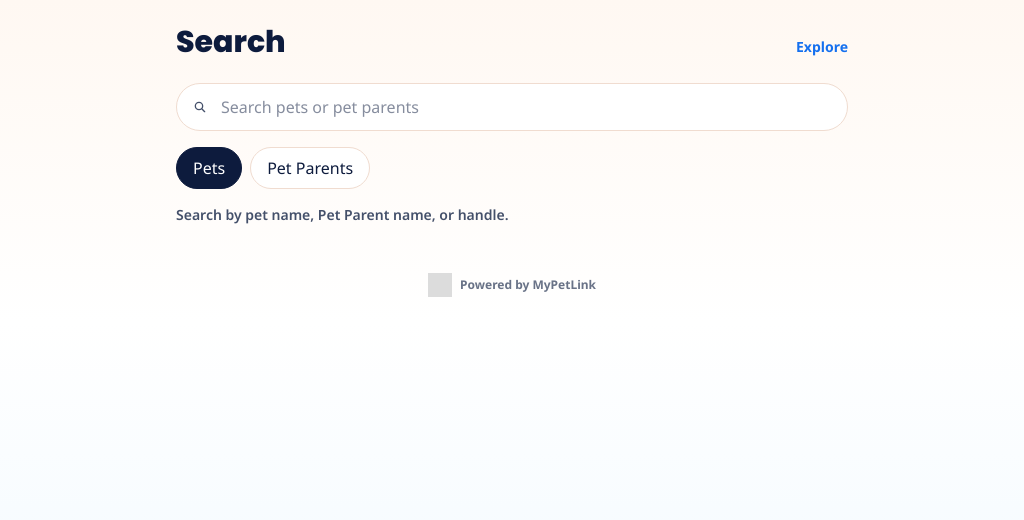
SocialSearchView › measures the two-character minimum after the @
The image size is (1024, 520).
Type "@m" into the search field labelled "Search pets or pet parents" at (512, 107), box 176,83 -> 848,131
Wait 600 ms
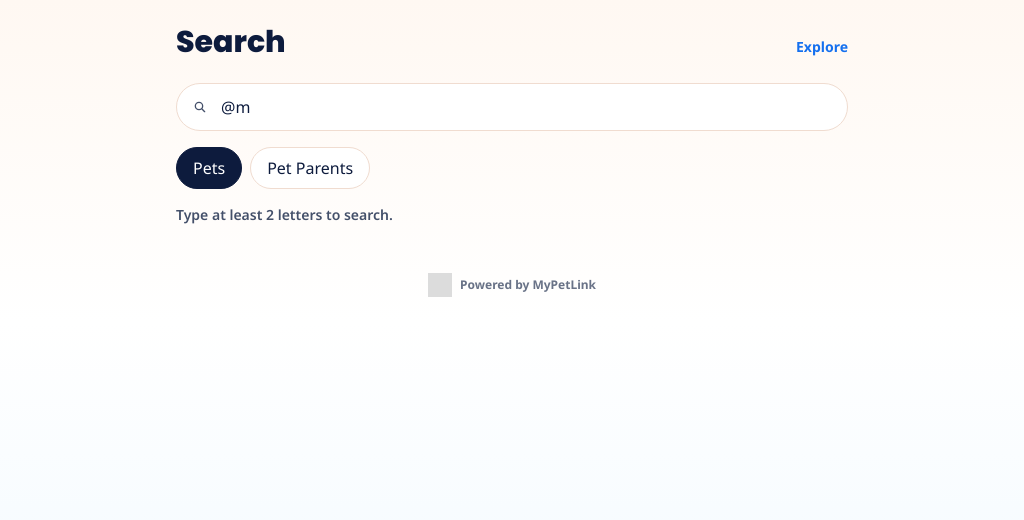
Expected: the text with test id "search-hint" shows "at least 2 letters", 176,205 -> 393,224
